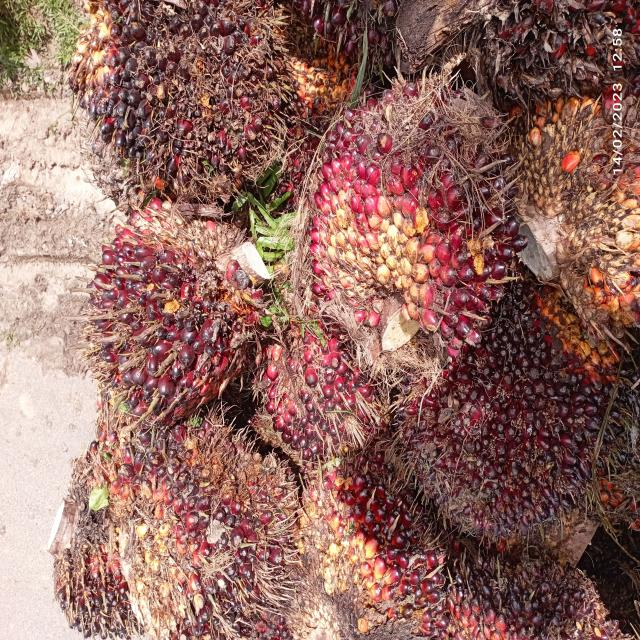fraksi 00: (71, 0, 285, 245), (410, 280, 608, 536)
fraksi 1: (43, 408, 278, 640), (70, 181, 266, 442), (249, 264, 375, 482)
fraksi 3: (281, 17, 528, 400)
